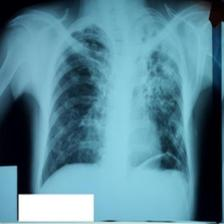tuberculosis: (39, 15, 194, 193)
